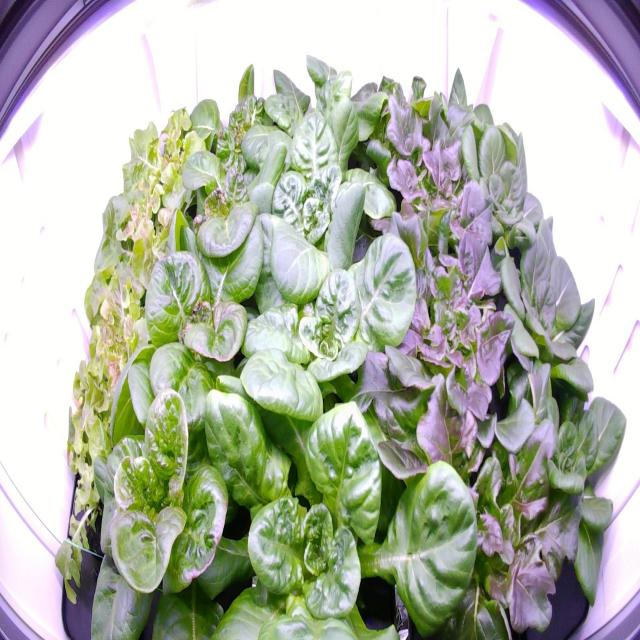Ready: (181, 368, 484, 638), (225, 178, 443, 455), (78, 354, 284, 636), (103, 230, 312, 490), (240, 102, 402, 286), (156, 125, 306, 296), (240, 26, 390, 193), (167, 49, 307, 212)
young: (486, 358, 630, 626), (481, 210, 599, 419), (452, 114, 564, 262), (414, 52, 528, 194)
